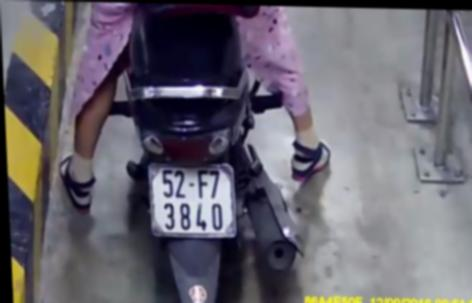License_Plate: (139, 161, 243, 243)
